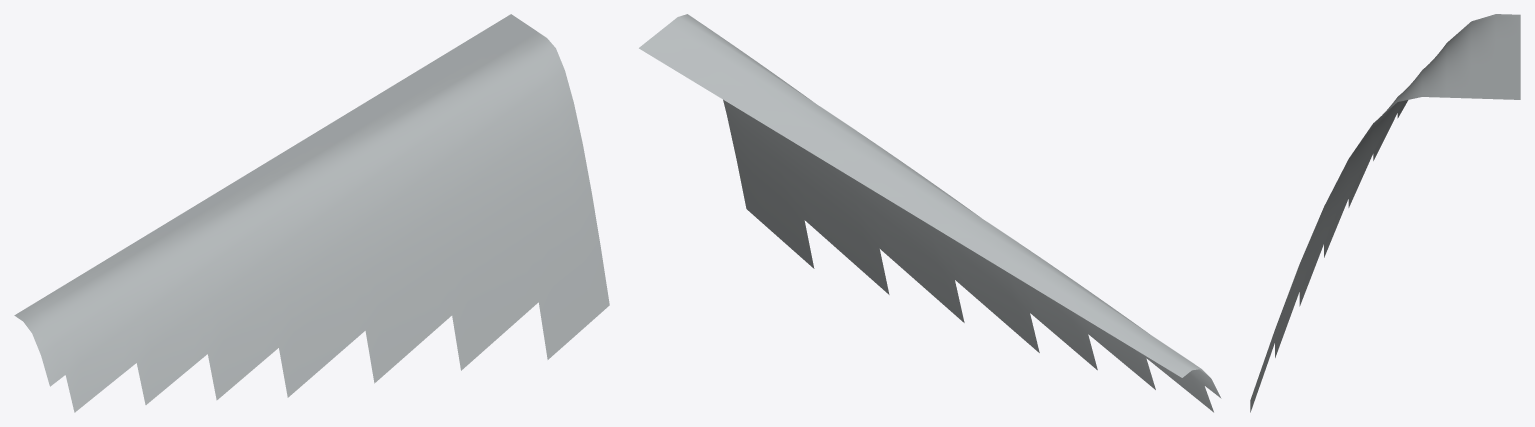
File: alpine-11-12.glb
3 views of the same model, side by side, from view 1: azimuth 30°, elevation 25°; view 2: azimuth 150°, elevation 25°; view 3: azimuth 270°, elevation 25° (orthographic). The views are drawn at different scales.
Visible parts, largest first — view 1: alpine-11-12; view 2: alpine-11-12; view 3: alpine-11-12.
Boxes of the visible parts, x1,y1,x2,y2 form: alpine-11-12: (14,14,609,412); alpine-11-12: (639,14,1221,412); alpine-11-12: (1250,14,1520,412).
Size of the model in its own units: 256 by 129 by 88.
1 material, 1 textured.
